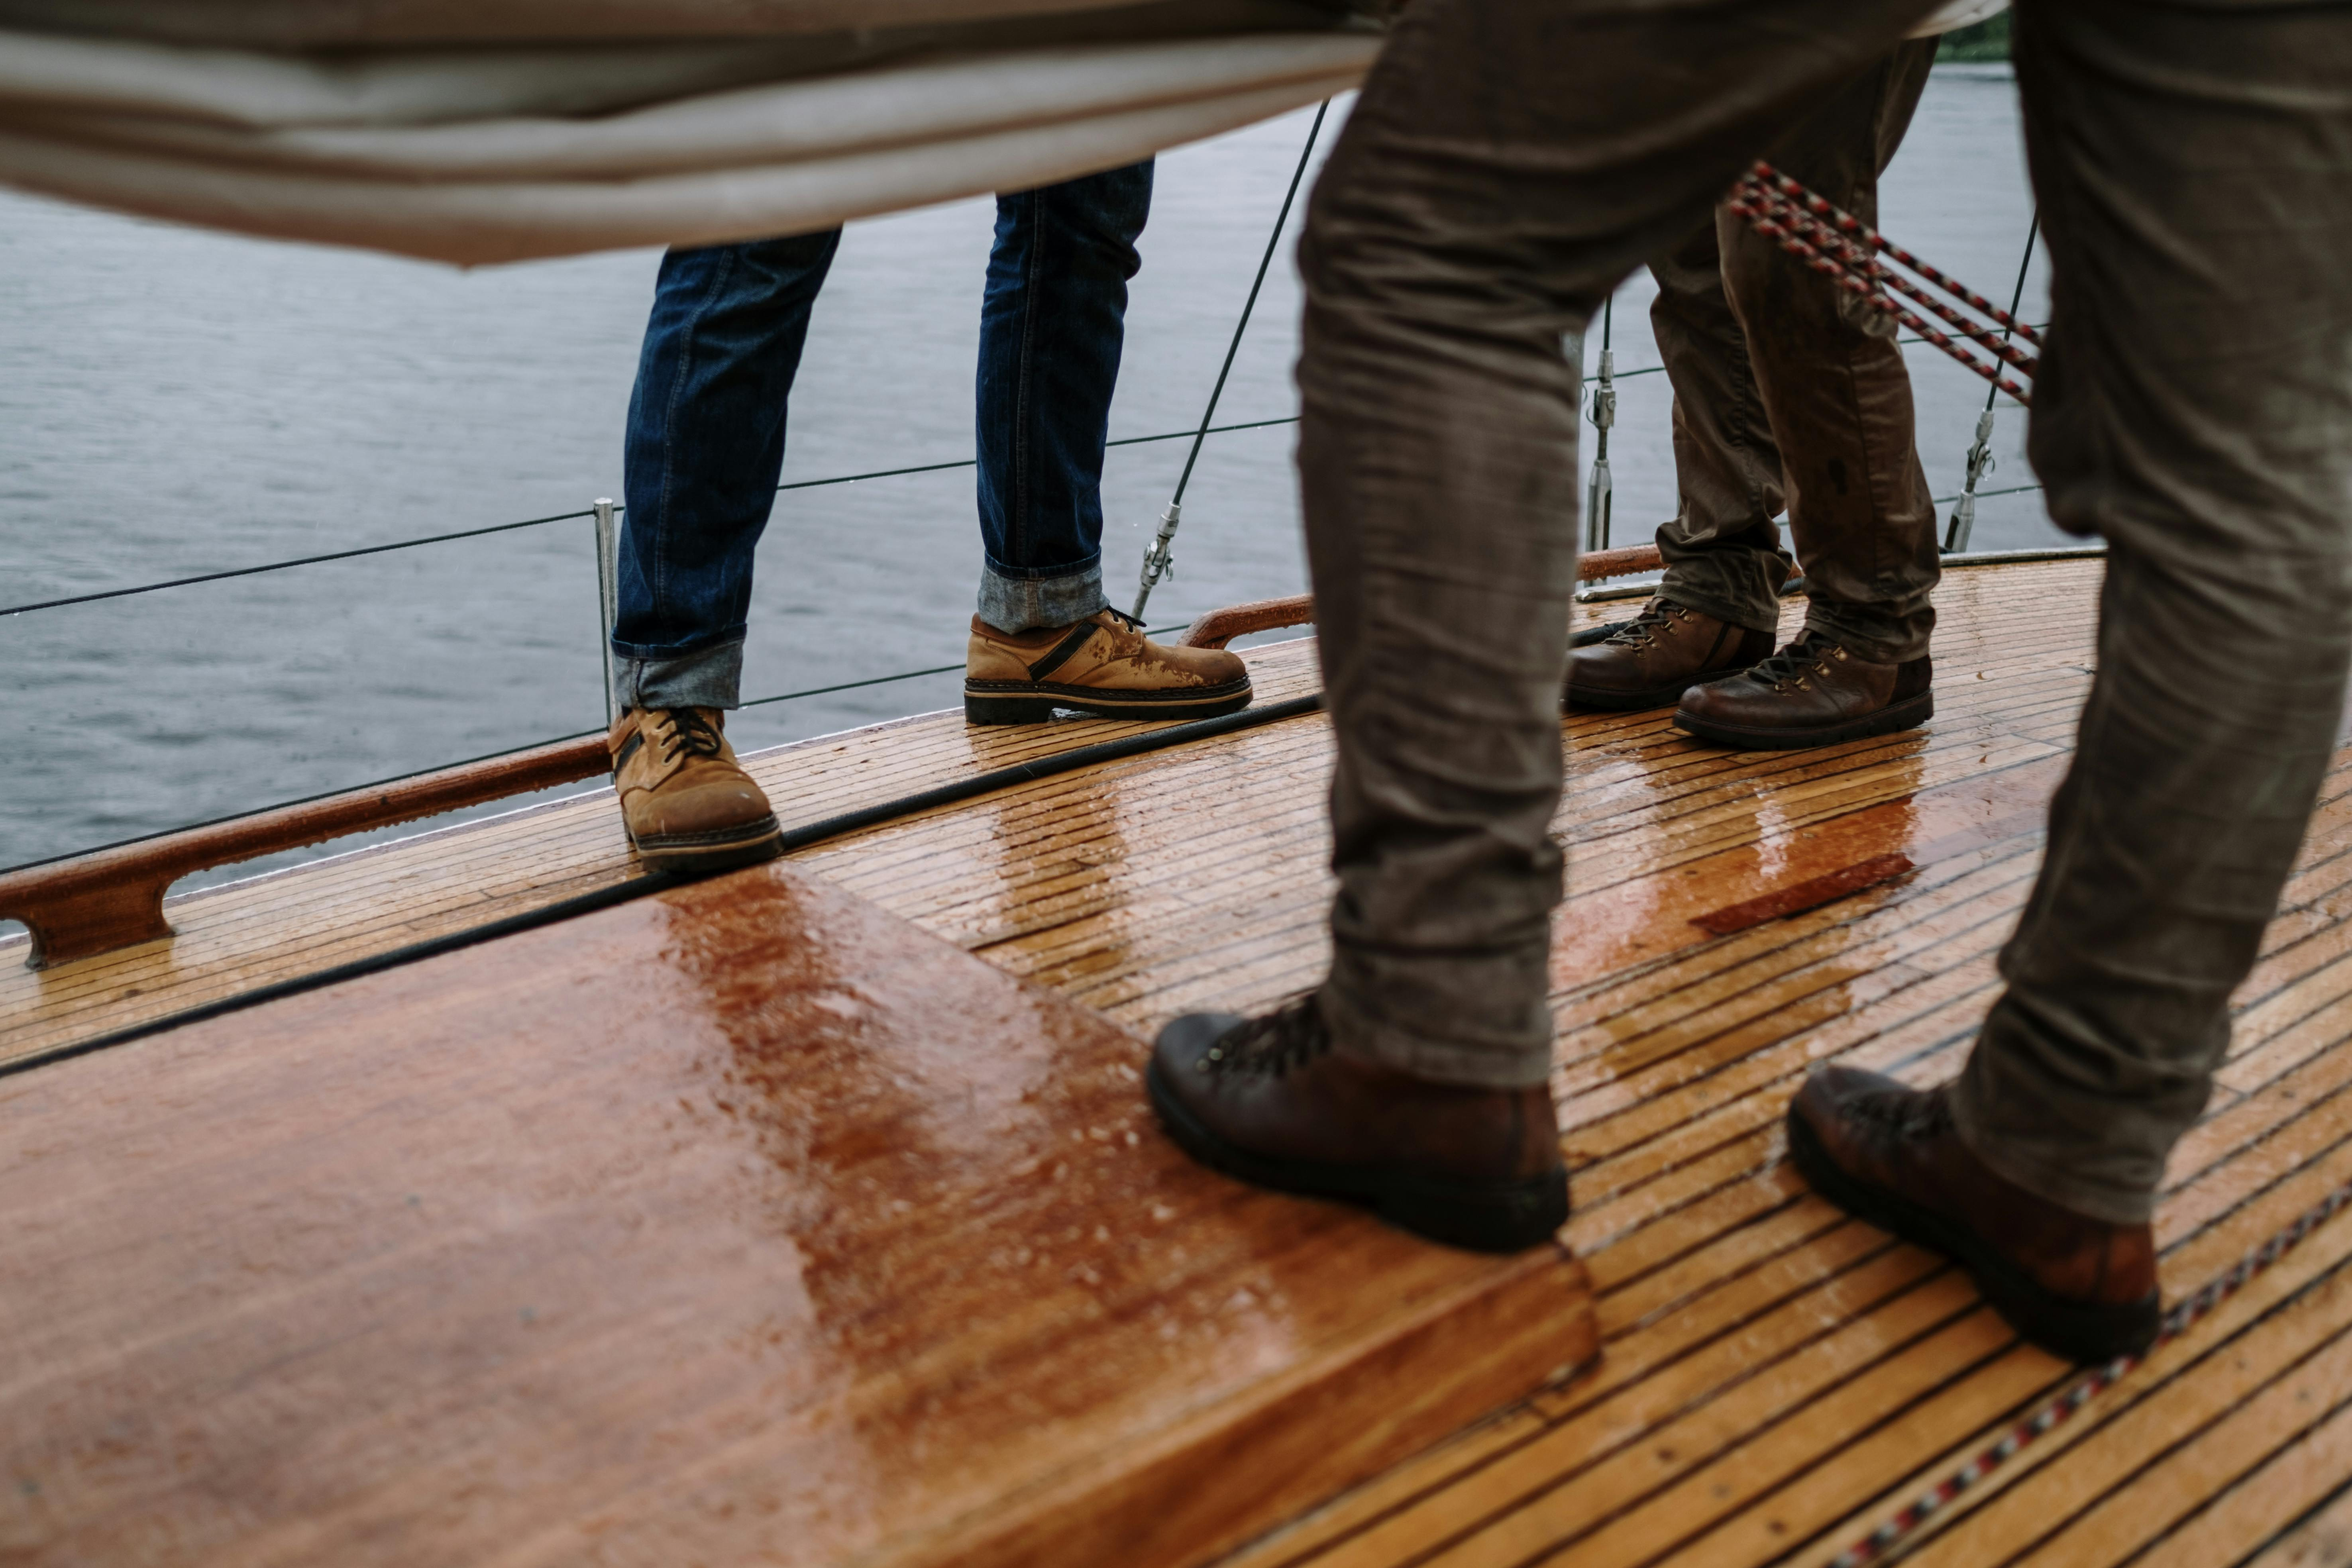Footwear: (1715, 1045, 2203, 1368), (1097, 990, 1605, 1262), (1633, 591, 1960, 768), (549, 682, 808, 878), (948, 597, 1277, 733)
